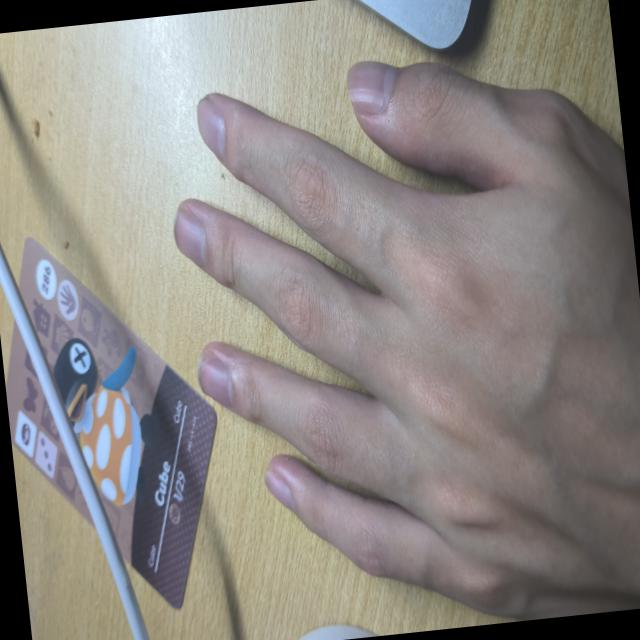Nail: (348, 60, 396, 112), (173, 208, 205, 264), (197, 354, 231, 404), (197, 97, 224, 159), (264, 469, 294, 509)
